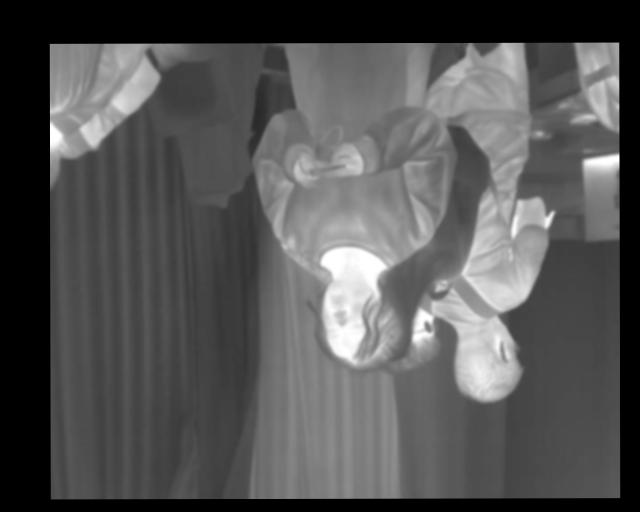face: (317, 278, 405, 373)
